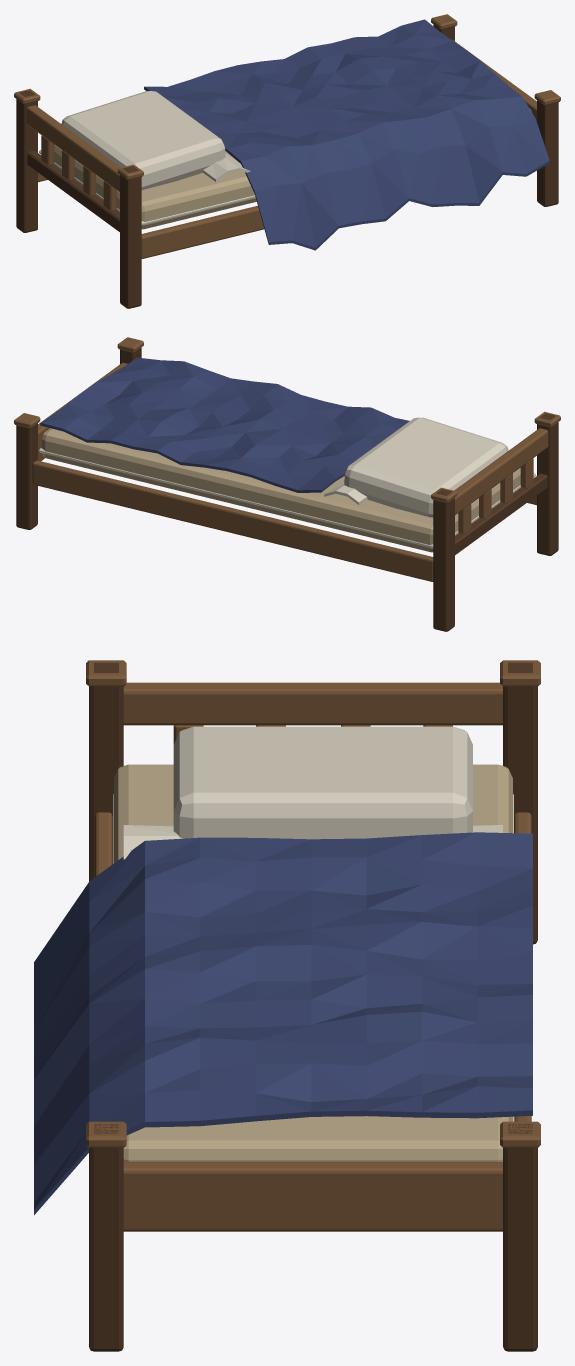
Rendered from bed_single_derevyannaya_samodelnaya_idle.glb.
3 views of the same model, one above another, from view 1: azimuth 30°, elevation 25°; view 2: azimuth 150°, elevation 25°; view 3: azimuth 270°, elevation 25° (orthographic). The views are drawn at different scales.
Parts seen in each view (by area): view 1: bed_single_derevyannaya_samodelnaya_idle; view 2: bed_single_derevyannaya_samodelnaya_idle; view 3: bed_single_derevyannaya_samodelnaya_idle.
Part boxes in pixels (x1=…): bed_single_derevyannaya_samodelnaya_idle: x1=14, y1=14, x2=560, y2=308; bed_single_derevyannaya_samodelnaya_idle: x1=14, y1=337, x2=560, y2=631; bed_single_derevyannaya_samodelnaya_idle: x1=34, y1=660, x2=540, y2=1351.
Bounding box in the file's own units: 2.01 × 0.6 × 1.02.
Materials: 1 (1 with a texture image).
